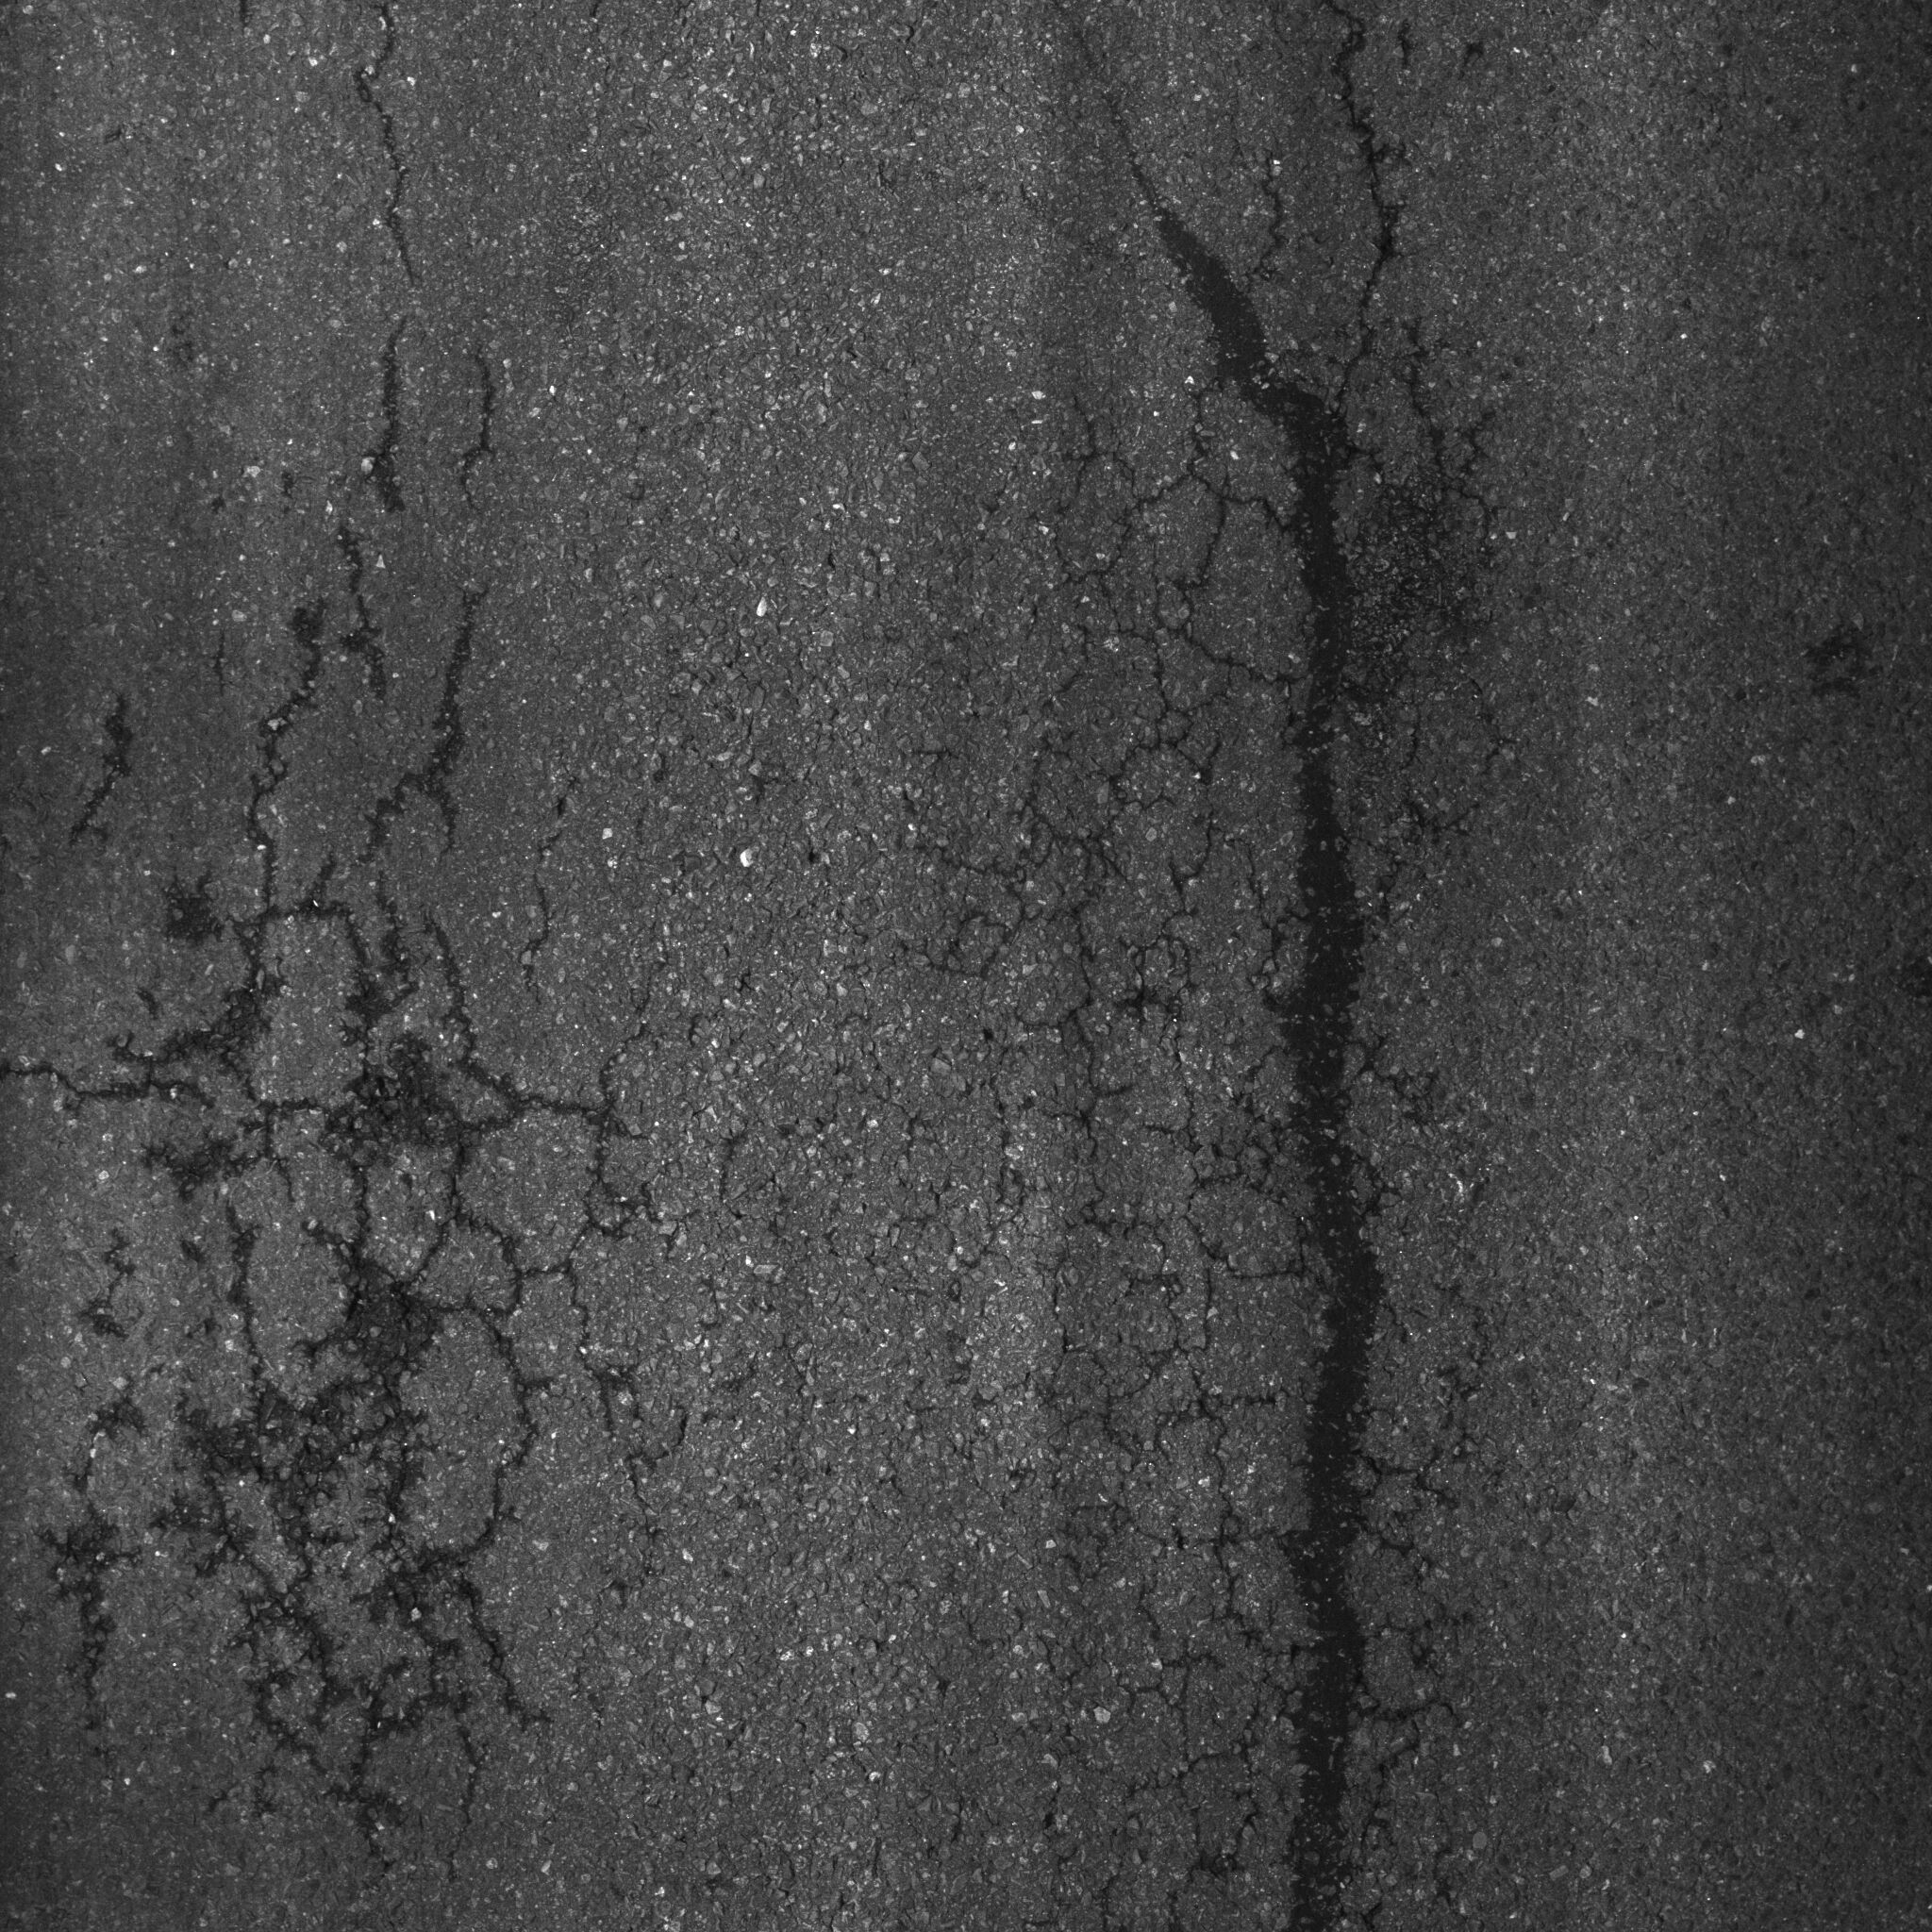alligator: (21, 18, 1580, 1932)
